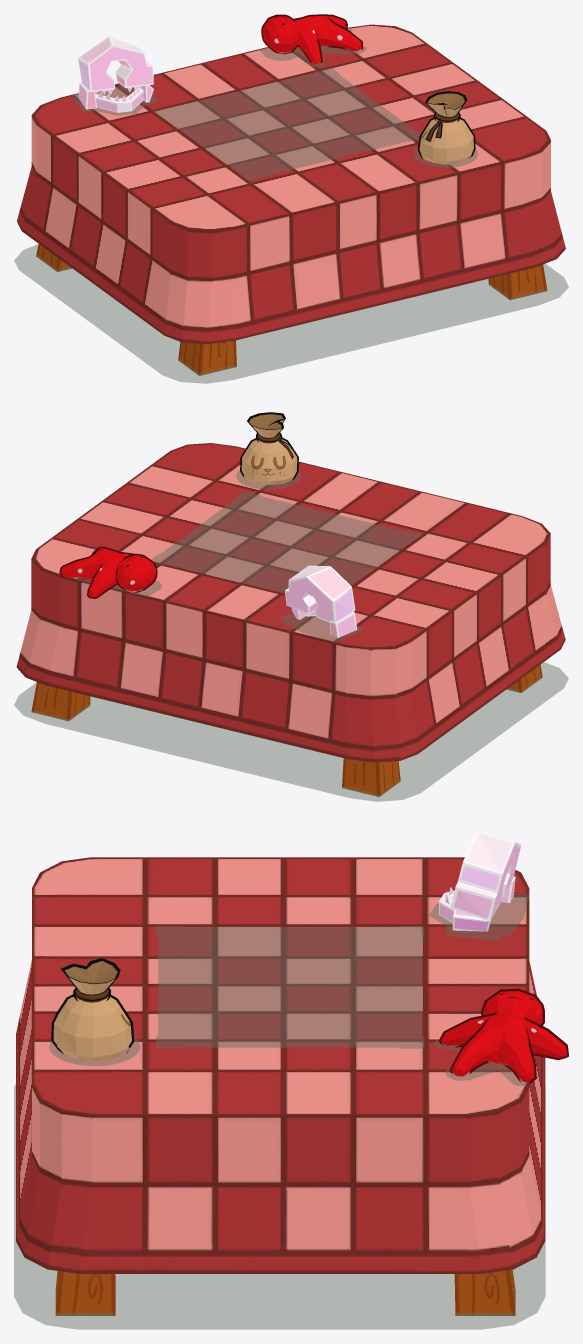
The model's file is MarshmallowyMeadows_Table.glb.
3 views of the same model, one above another, from view 1: azimuth 30°, elevation 25°; view 2: azimuth 150°, elevation 25°; view 3: azimuth 270°, elevation 25° (orthographic). The views are drawn at different scales.
Parts seen in each view (by area): view 1: MarshmallowyMweadows_Table, MarshmallowyMweadows_Shadows, MarshmallowyMweadows_Table_Shadow, MarshmallowyMweadows_Objects, MarshmallowyMweadows_Objects_Outline; view 2: MarshmallowyMweadows_Table, MarshmallowyMweadows_Shadows, MarshmallowyMweadows_Table_Shadow, MarshmallowyMweadows_Objects, MarshmallowyMweadows_Objects_Outline; view 3: MarshmallowyMweadows_Table, MarshmallowyMweadows_Table_Shadow, MarshmallowyMweadows_Shadows, MarshmallowyMweadows_Objects, MarshmallowyMweadows_Objects_Outline.
Boxes of the visible parts, <box> form: MarshmallowyMweadows_Table: <box>17,24,565,375</box>; MarshmallowyMweadows_Shadows: <box>14,28,568,383</box>; MarshmallowyMweadows_Table_Shadow: <box>153,68,420,180</box>; MarshmallowyMweadows_Objects: <box>78,16,473,164</box>; MarshmallowyMweadows_Objects_Outline: <box>261,14,475,159</box>; MarshmallowyMweadows_Table: <box>16,443,565,796</box>; MarshmallowyMweadows_Shadows: <box>14,470,568,801</box>; MarshmallowyMweadows_Table_Shadow: <box>151,491,421,593</box>; MarshmallowyMweadows_Objects: <box>61,413,357,637</box>; MarshmallowyMweadows_Objects_Outline: <box>59,412,298,598</box>; MarshmallowyMweadows_Table: <box>16,857,545,1315</box>; MarshmallowyMweadows_Table_Shadow: <box>156,926,424,1048</box>; MarshmallowyMweadows_Shadows: <box>14,893,545,1329</box>; MarshmallowyMweadows_Objects: <box>53,830,566,1081</box>; MarshmallowyMweadows_Objects_Outline: <box>51,958,568,1083</box>.
Size of the model in its own units: 5.54 by 2.71 by 4.71.
2 materials, 2 textured.
